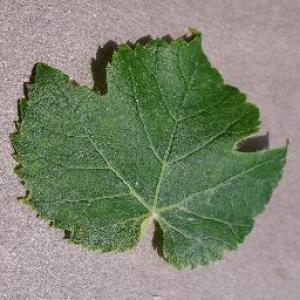Folha: (10, 26, 290, 269)
